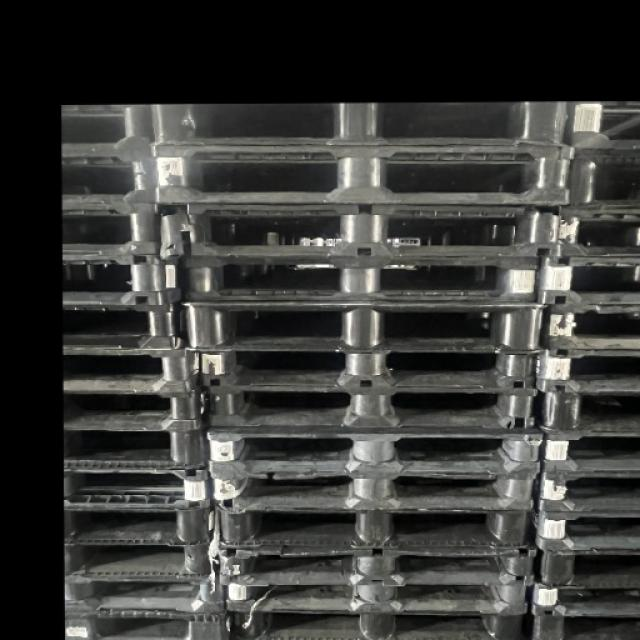igps: (146, 141, 580, 212), (150, 199, 565, 264), (147, 96, 571, 151), (179, 299, 552, 356), (203, 424, 549, 480), (177, 253, 542, 305), (197, 342, 548, 390), (212, 502, 537, 552), (204, 384, 542, 431), (207, 464, 544, 511), (217, 544, 540, 589), (222, 580, 531, 620), (226, 608, 530, 640), (61, 568, 232, 616), (61, 464, 216, 514), (60, 296, 192, 354), (60, 426, 212, 474), (62, 342, 205, 392), (60, 253, 186, 309), (59, 541, 223, 583), (61, 385, 214, 430), (60, 503, 219, 545), (60, 198, 166, 260), (59, 148, 163, 208), (520, 504, 640, 555), (530, 252, 640, 306), (529, 345, 640, 396), (527, 467, 640, 517), (525, 572, 640, 621), (62, 608, 235, 640), (537, 301, 640, 354), (58, 100, 159, 154), (534, 544, 640, 594), (561, 145, 640, 212), (535, 385, 640, 435), (552, 204, 640, 261), (536, 429, 640, 476), (525, 600, 640, 640), (558, 101, 640, 153)
